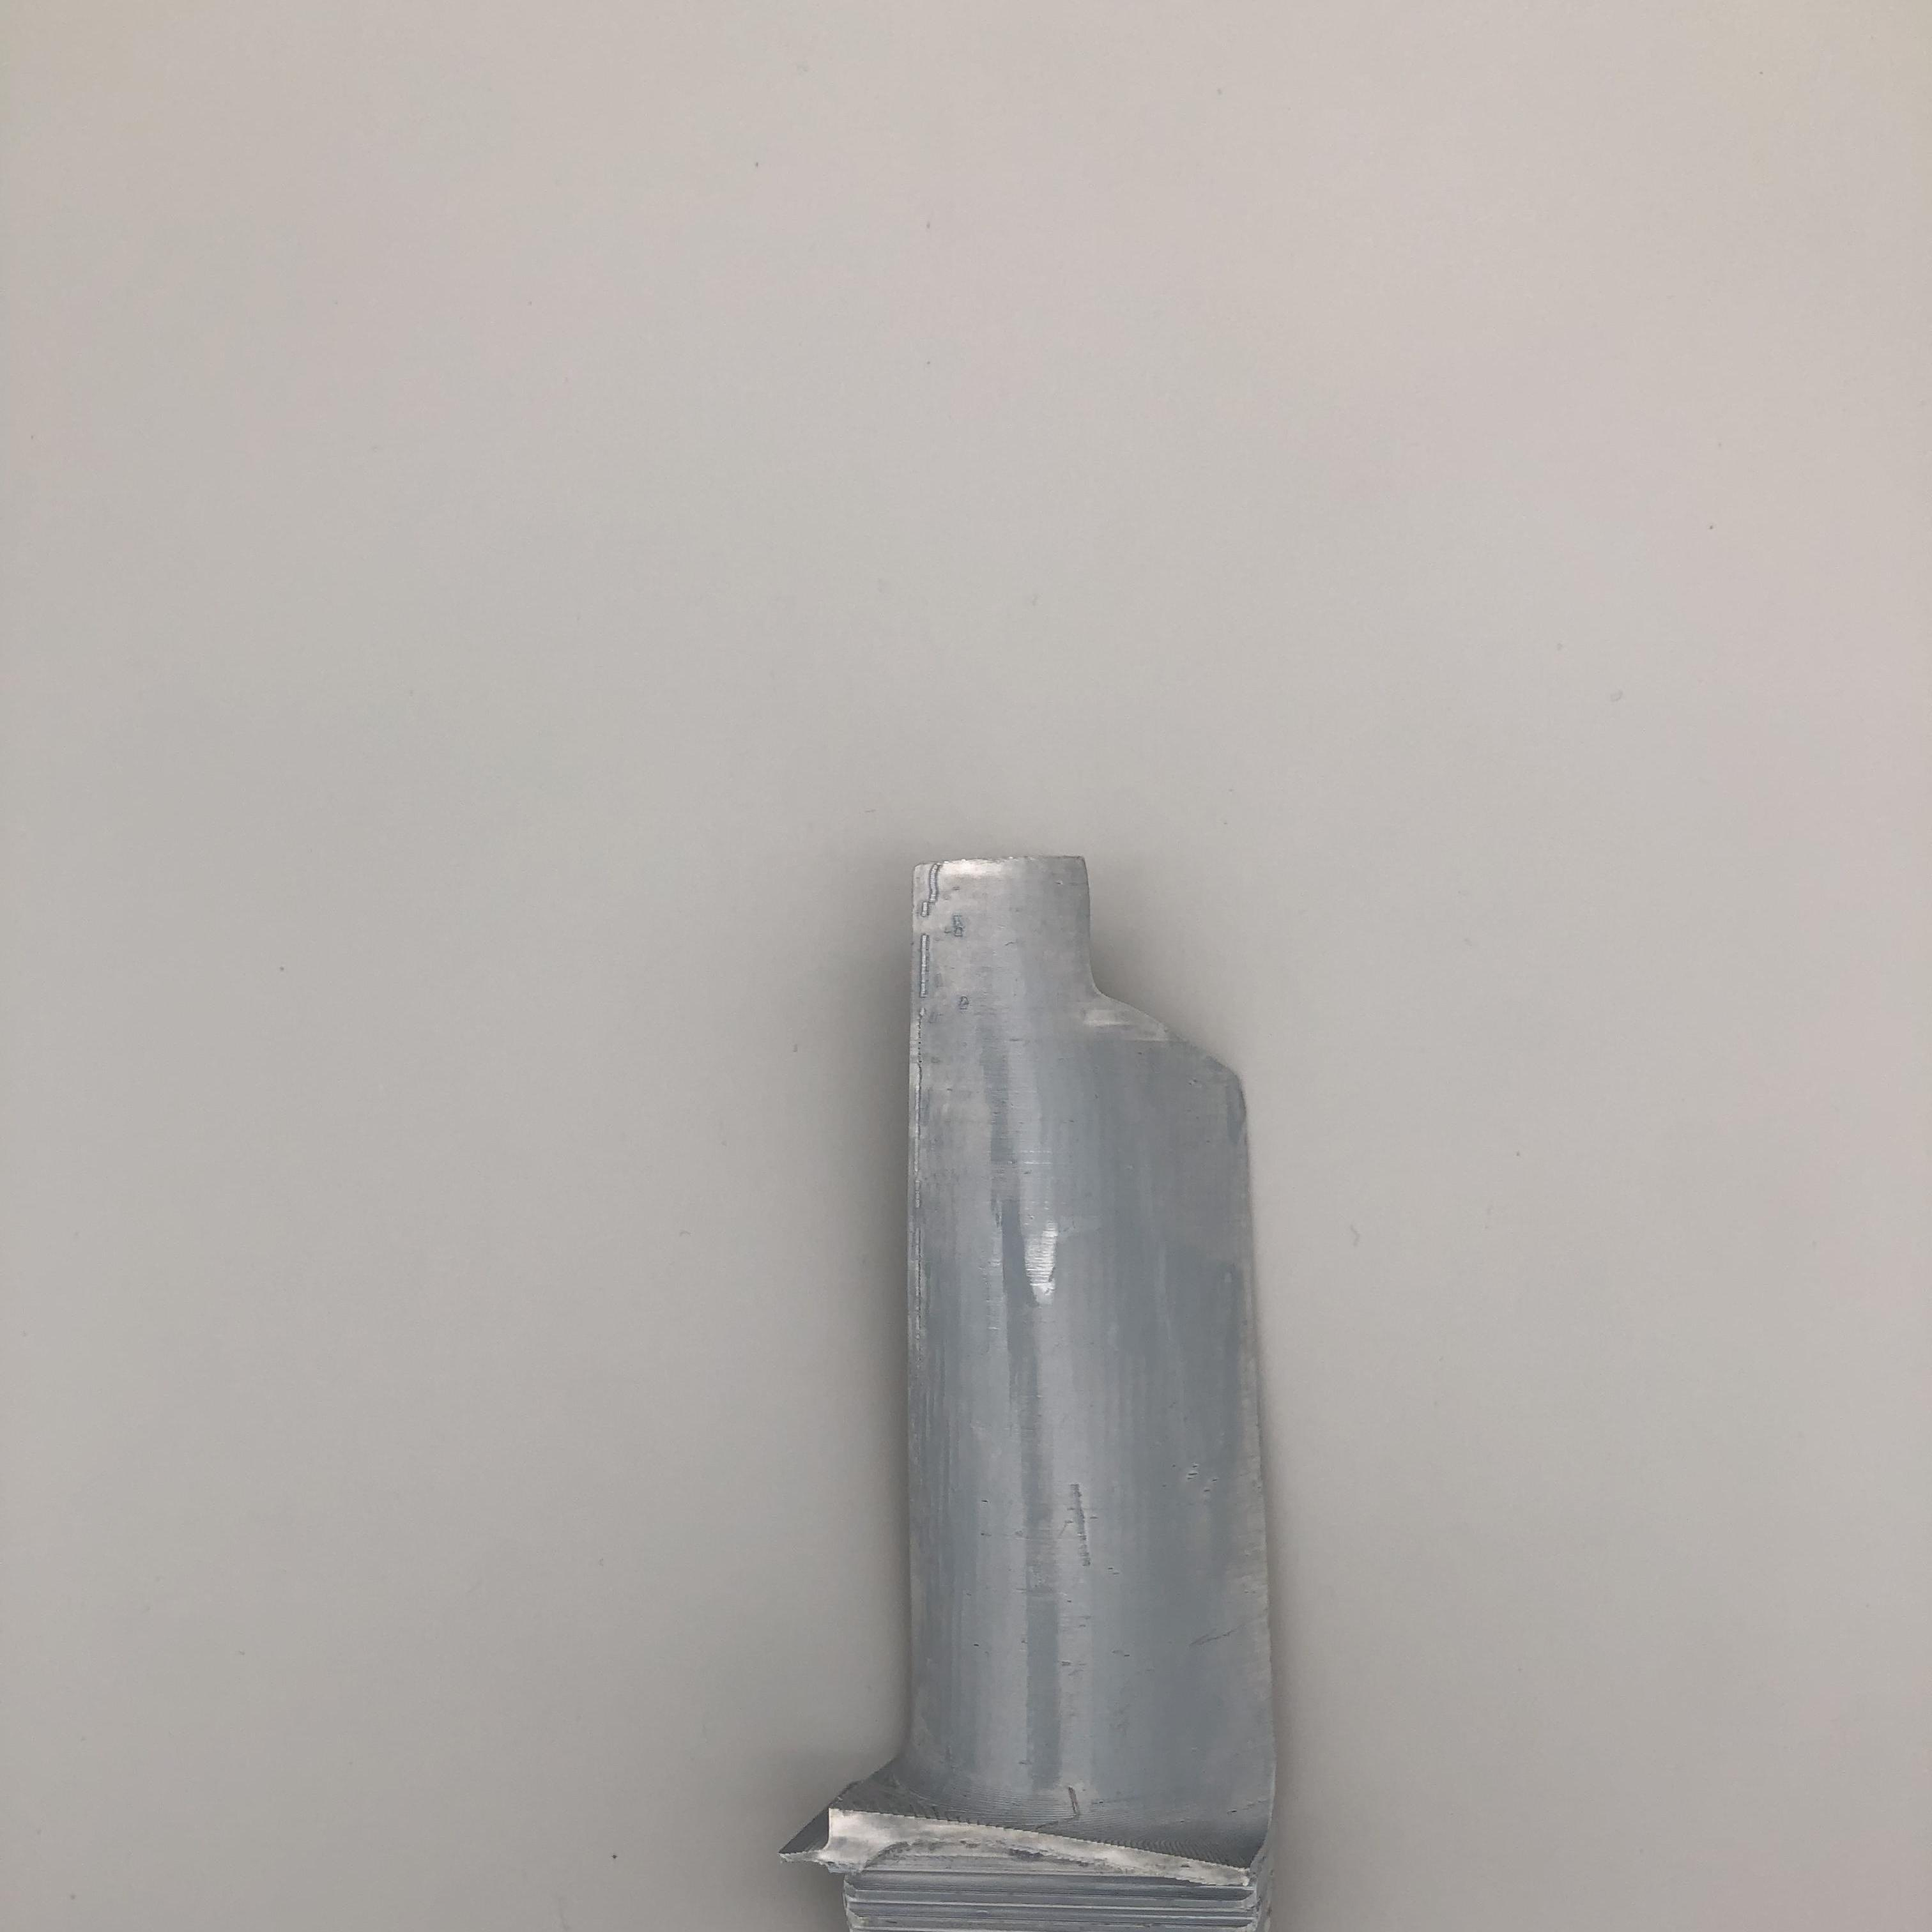fracture: (1065, 855, 1251, 1099)
